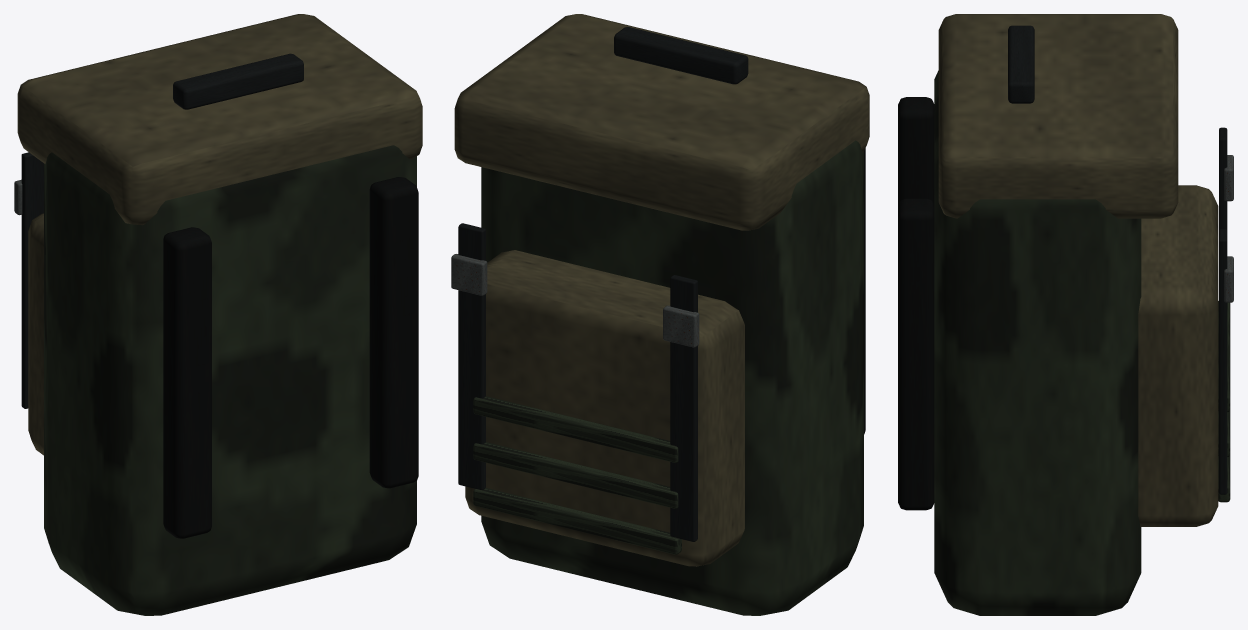
Rendered from backpack.glb.
The picture shows the model from 3 angles, left to right: view 1: azimuth 30°, elevation 25°; view 2: azimuth 150°, elevation 25°; view 3: azimuth 270°, elevation 25°; orthographic projection. The views are drawn at different scales.
Parts seen in each view (by area): view 1: body_fabric, body_webbing, body_rubber, body_darksteel; view 2: body_webbing, body_fabric, body_darksteel, body_steel, body_rubber; view 3: body_fabric, body_webbing, body_rubber, body_darksteel, body_steel.
Boxes of the visible parts, x1=… form: body_fabric: x1=44, y1=145, x2=416, y2=615; body_webbing: x1=17, y1=14, x2=422, y2=455; body_rubber: x1=163, y1=177, x2=418, y2=538; body_darksteel: x1=21, y1=53, x2=303, y2=408; body_webbing: x1=454, y1=14, x2=869, y2=566; body_fabric: x1=473, y1=140, x2=863, y2=615; body_darksteel: x1=458, y1=27, x2=748, y2=541; body_steel: x1=451, y1=254, x2=699, y2=347; body_rubber: x1=864, y1=148, x2=865, y2=434; body_fabric: x1=934, y1=70, x2=1230, y2=615; body_webbing: x1=938, y1=14, x2=1218, y2=526; body_rubber: x1=898, y1=97, x2=934, y2=510; body_darksteel: x1=1008, y1=25, x2=1227, y2=494; body_steel: x1=1224, y1=155, x2=1233, y2=302.
Bounding box in the file's own units: 0.43 × 0.6735 × 0.406.
Materials: 5 (5 with a texture image).
